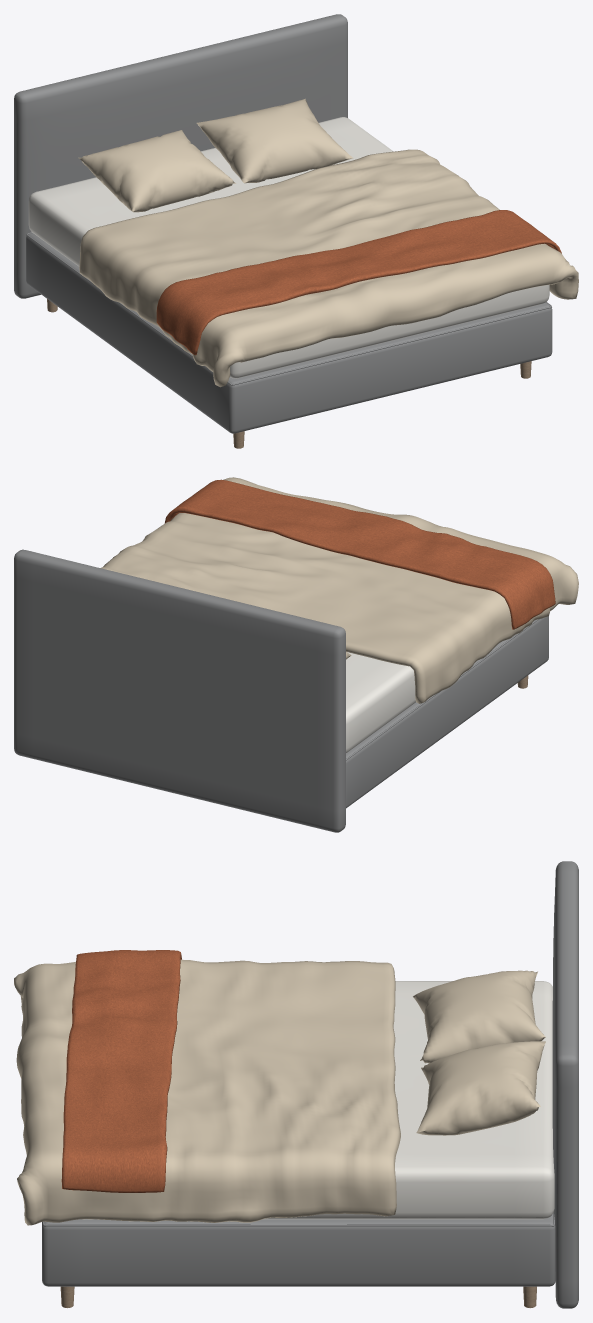
File: bed_180.glb
The picture shows the model from 3 angles, top to bottom: view 1: azimuth 30°, elevation 25°; view 2: azimuth 150°, elevation 25°; view 3: azimuth 270°, elevation 25°; orthographic projection. The views are drawn at different scales.
Parts seen in each view (by area): view 1: bed_soft; view 2: bed_soft; view 3: bed_soft, bed_hard.
Boxes of the visible parts, x1,y1,x2,y2 form: bed_soft: (14, 14, 578, 433); bed_soft: (14, 477, 578, 832); bed_soft: (14, 861, 578, 1308); bed_hard: (60, 1286, 536, 1308).
Size of the model in its own units: 2.04 by 1.12 by 2.2.
Materials: 5 (2 with a texture image).
